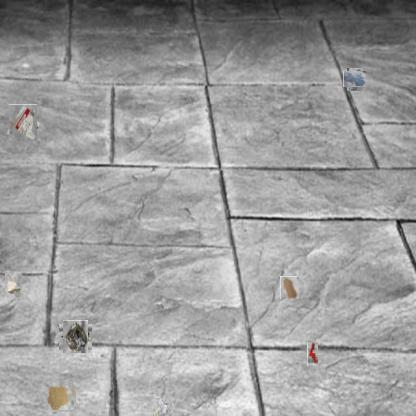dirty: (7, 107, 40, 139), (61, 322, 90, 352), (280, 276, 299, 299), (3, 275, 23, 295), (154, 397, 173, 416), (307, 342, 318, 366)
liquid: (46, 380, 76, 410), (345, 70, 365, 89)
